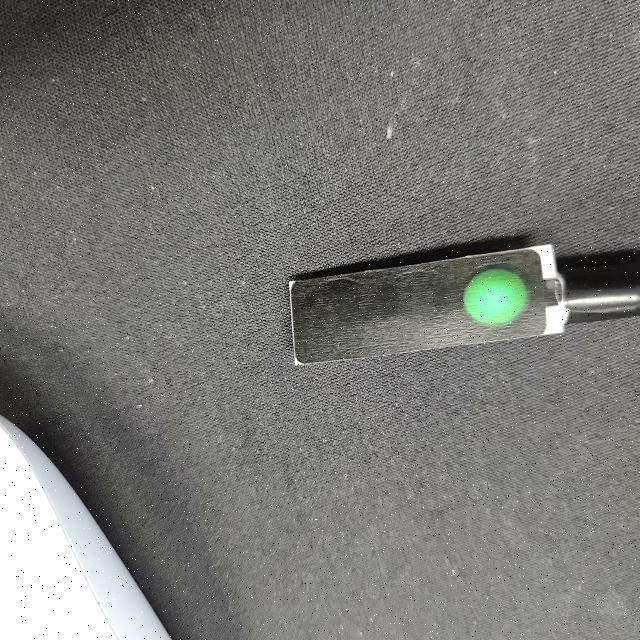traffic light: (289, 234, 562, 368)
